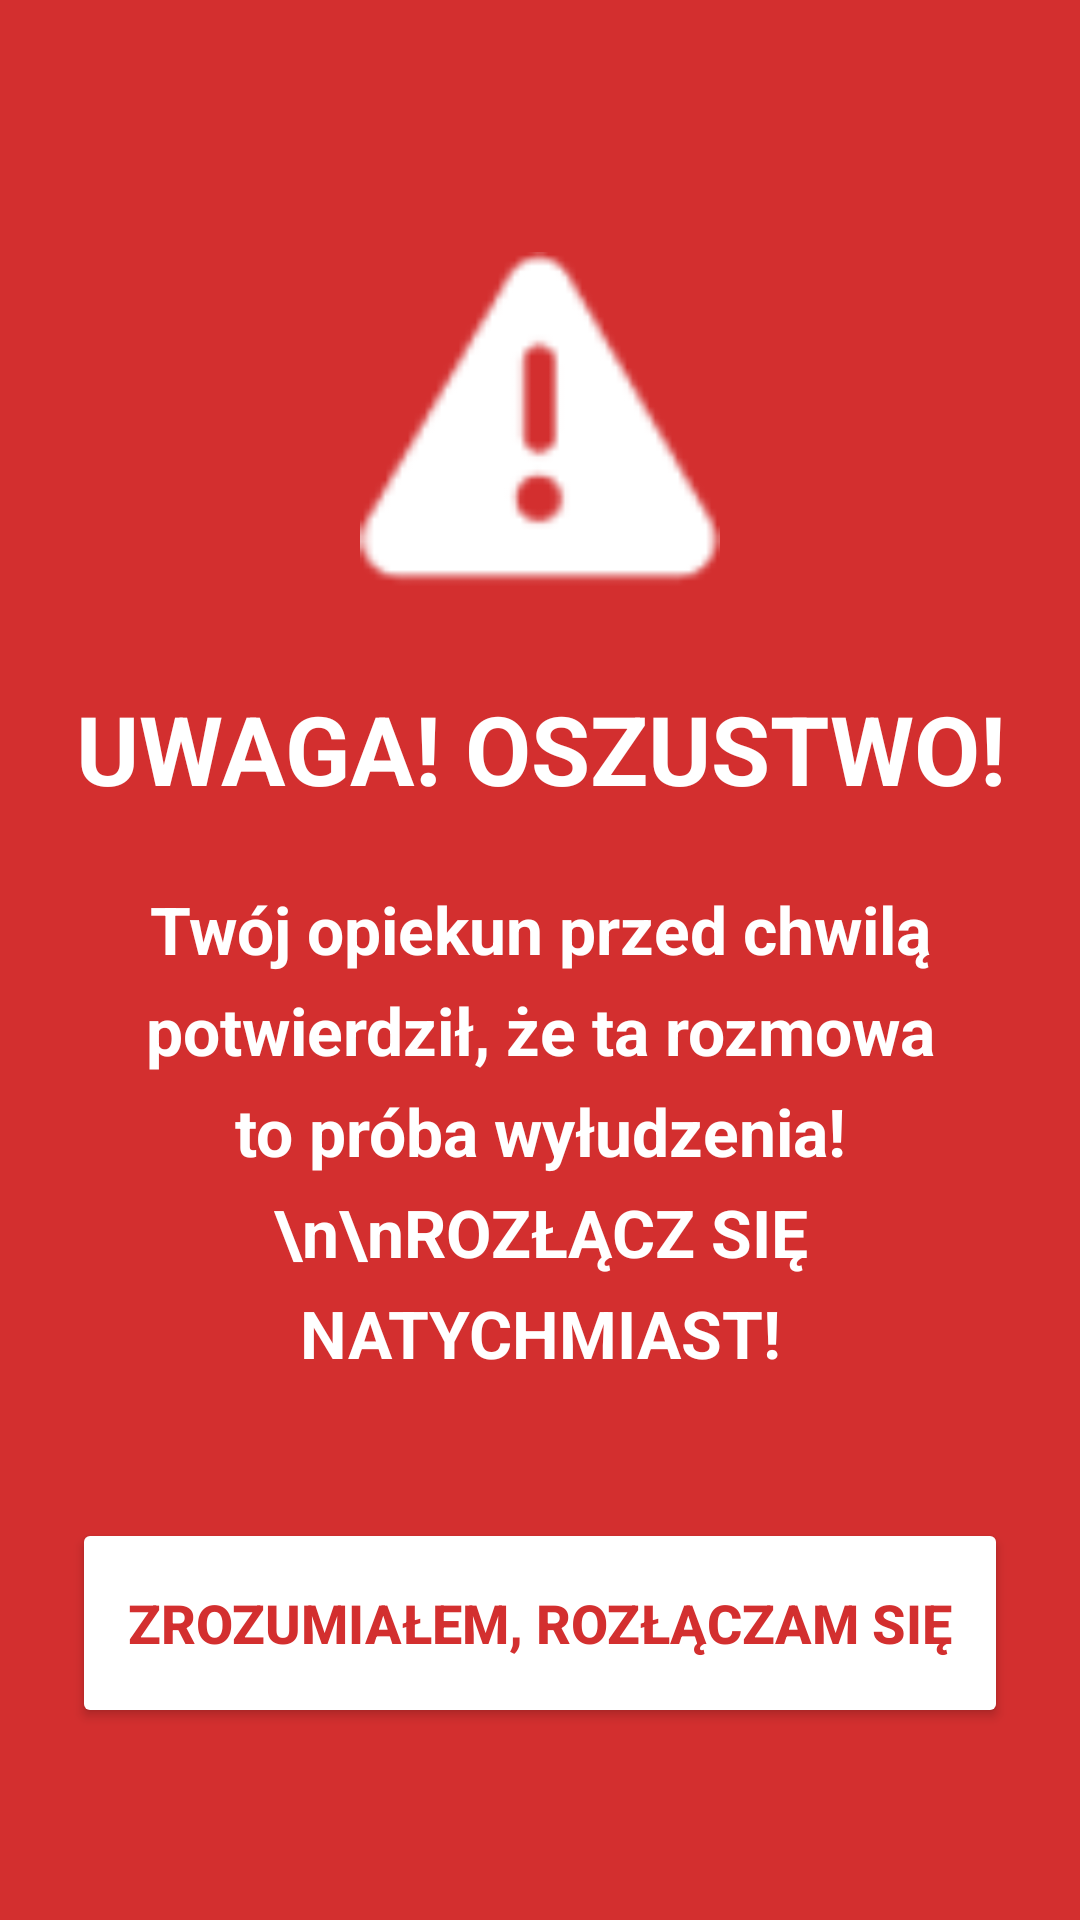

Locate icon controls on the screen. Image size 1080px×1920px, boxes as bbox=[x1, y1, x2, y2].
alert: bbox=[360, 252, 720, 581]
